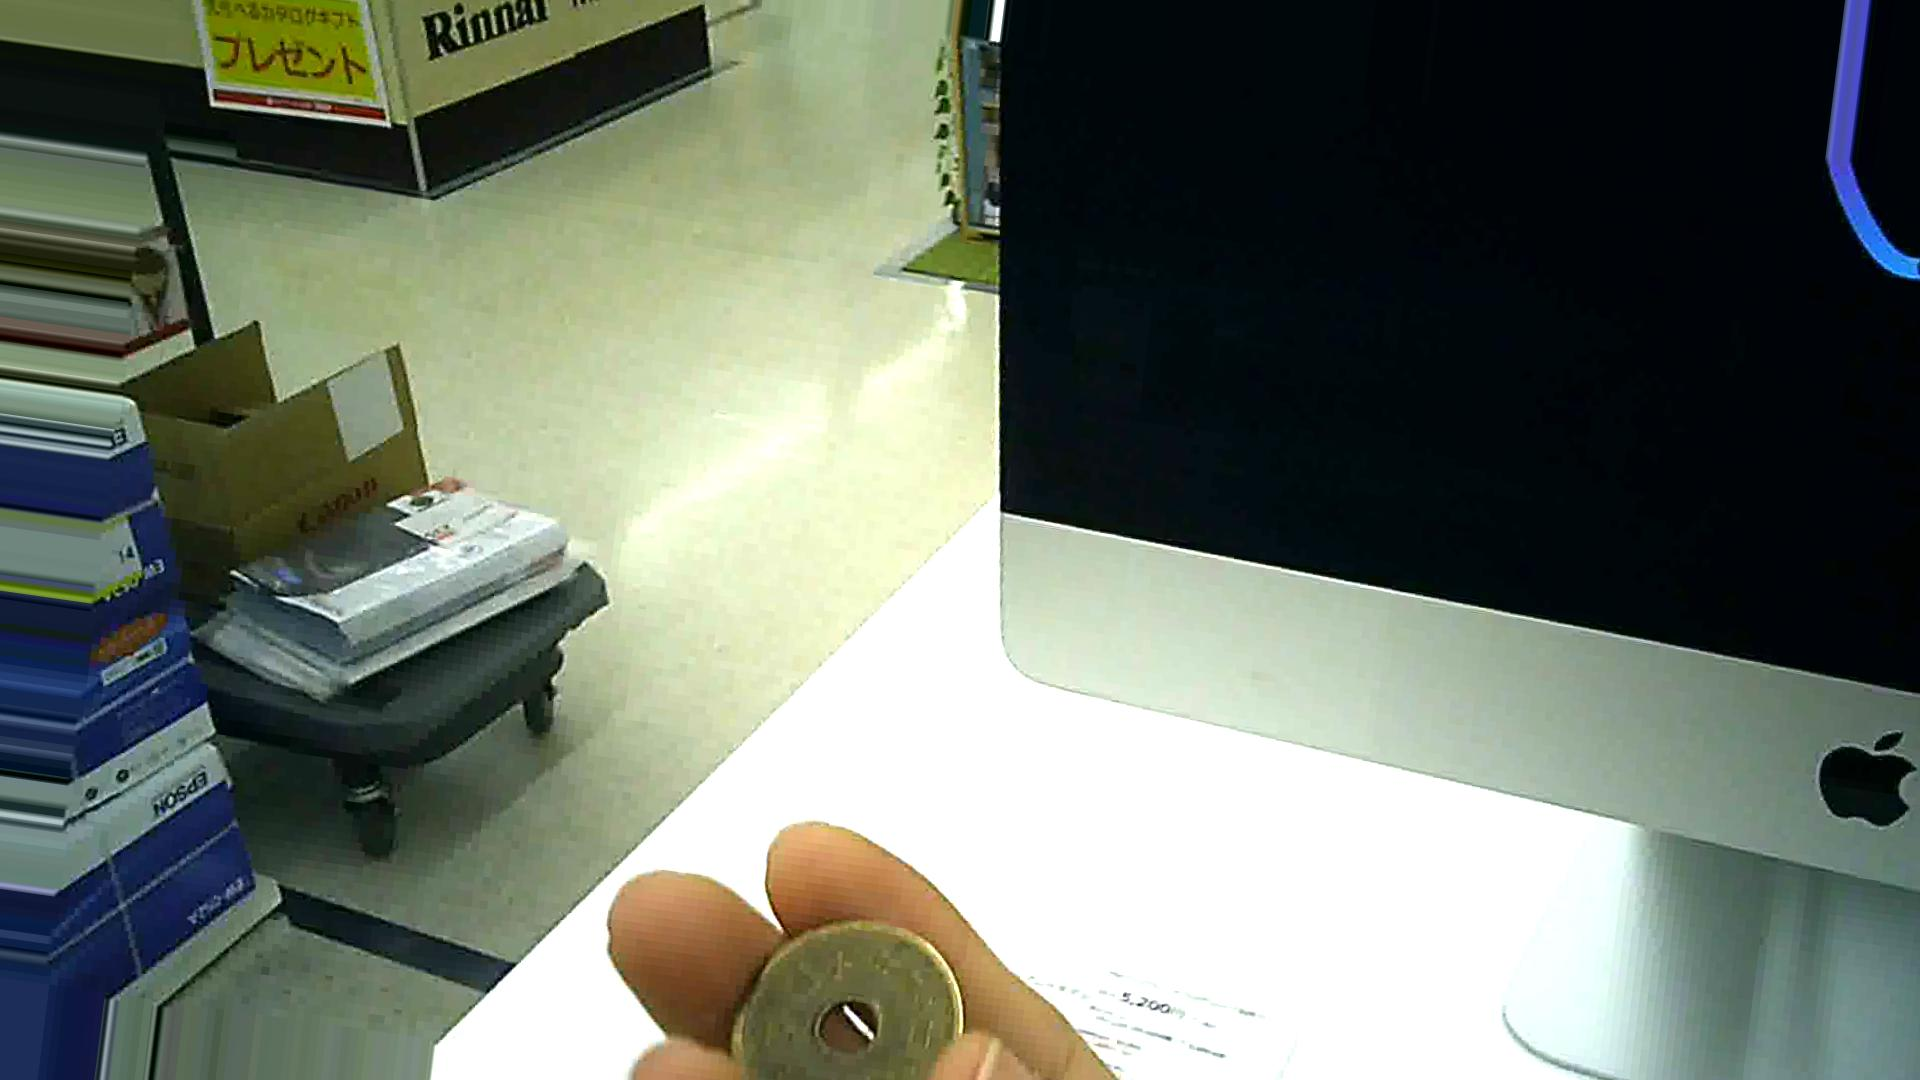5 Yen: (727, 911, 960, 1079)
